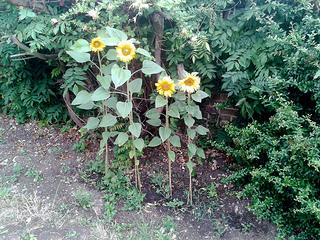sunflower: (116, 39, 136, 61), (153, 75, 174, 95), (181, 72, 200, 91), (88, 38, 103, 51)
